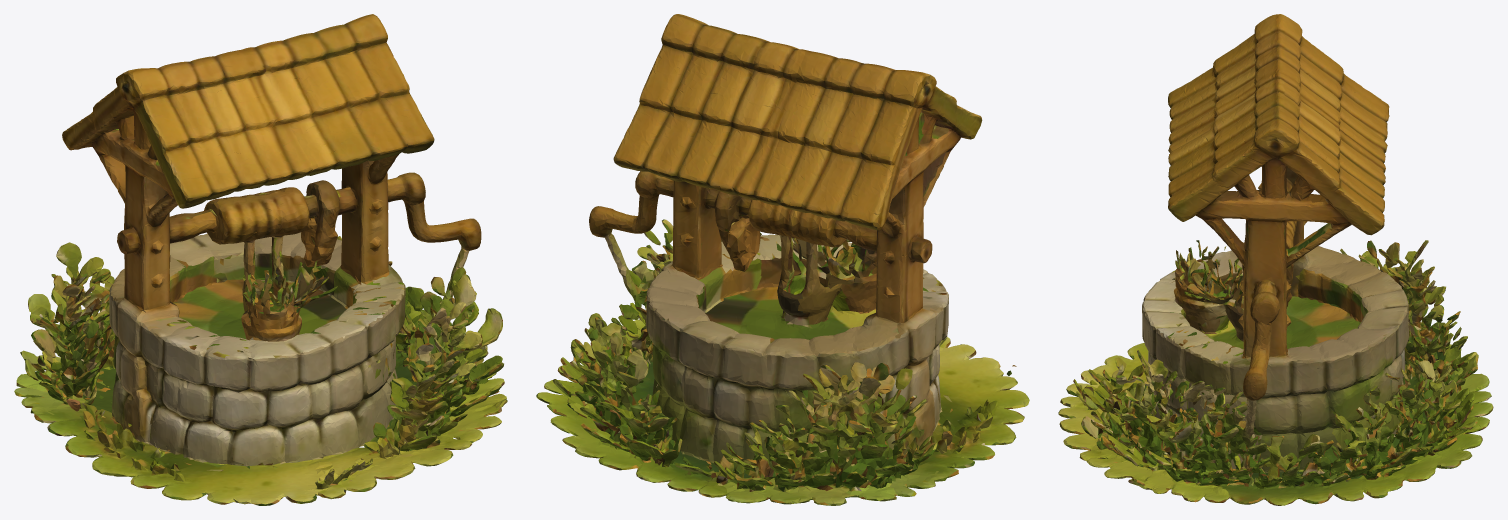
The model's file is wc-well-paint.glb.
The picture shows the model from 3 angles, left to right: view 1: azimuth 30°, elevation 25°; view 2: azimuth 150°, elevation 25°; view 3: azimuth 270°, elevation 25°; orthographic projection. The views are drawn at different scales.
Visible parts, largest first — view 1: geometry_0; view 2: geometry_0; view 3: geometry_0.
Boxes of the visible parts, box(x1,y1,x2,y2) form: geometry_0: box(14, 14, 507, 505); geometry_0: box(536, 14, 1029, 505); geometry_0: box(1058, 14, 1493, 505).
Size of the model in its own units: 1.99 by 1.75 by 1.98.
1 material, 1 textured.
